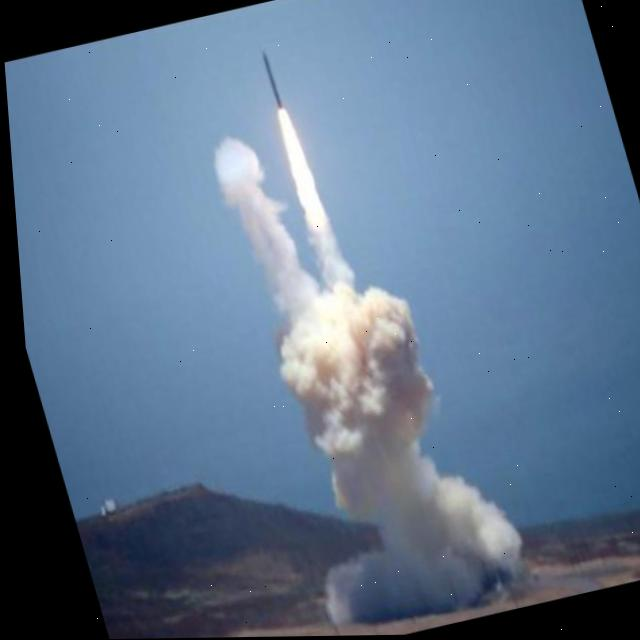missile: (257, 49, 284, 113)
